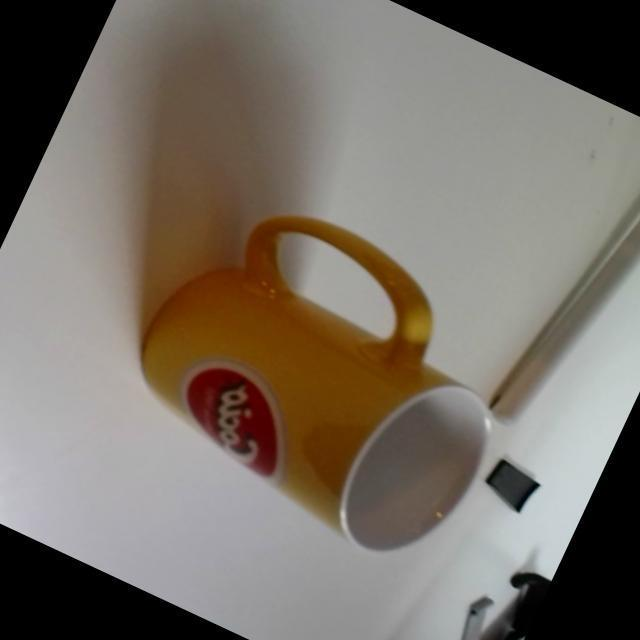cup: (96, 158, 558, 584)
